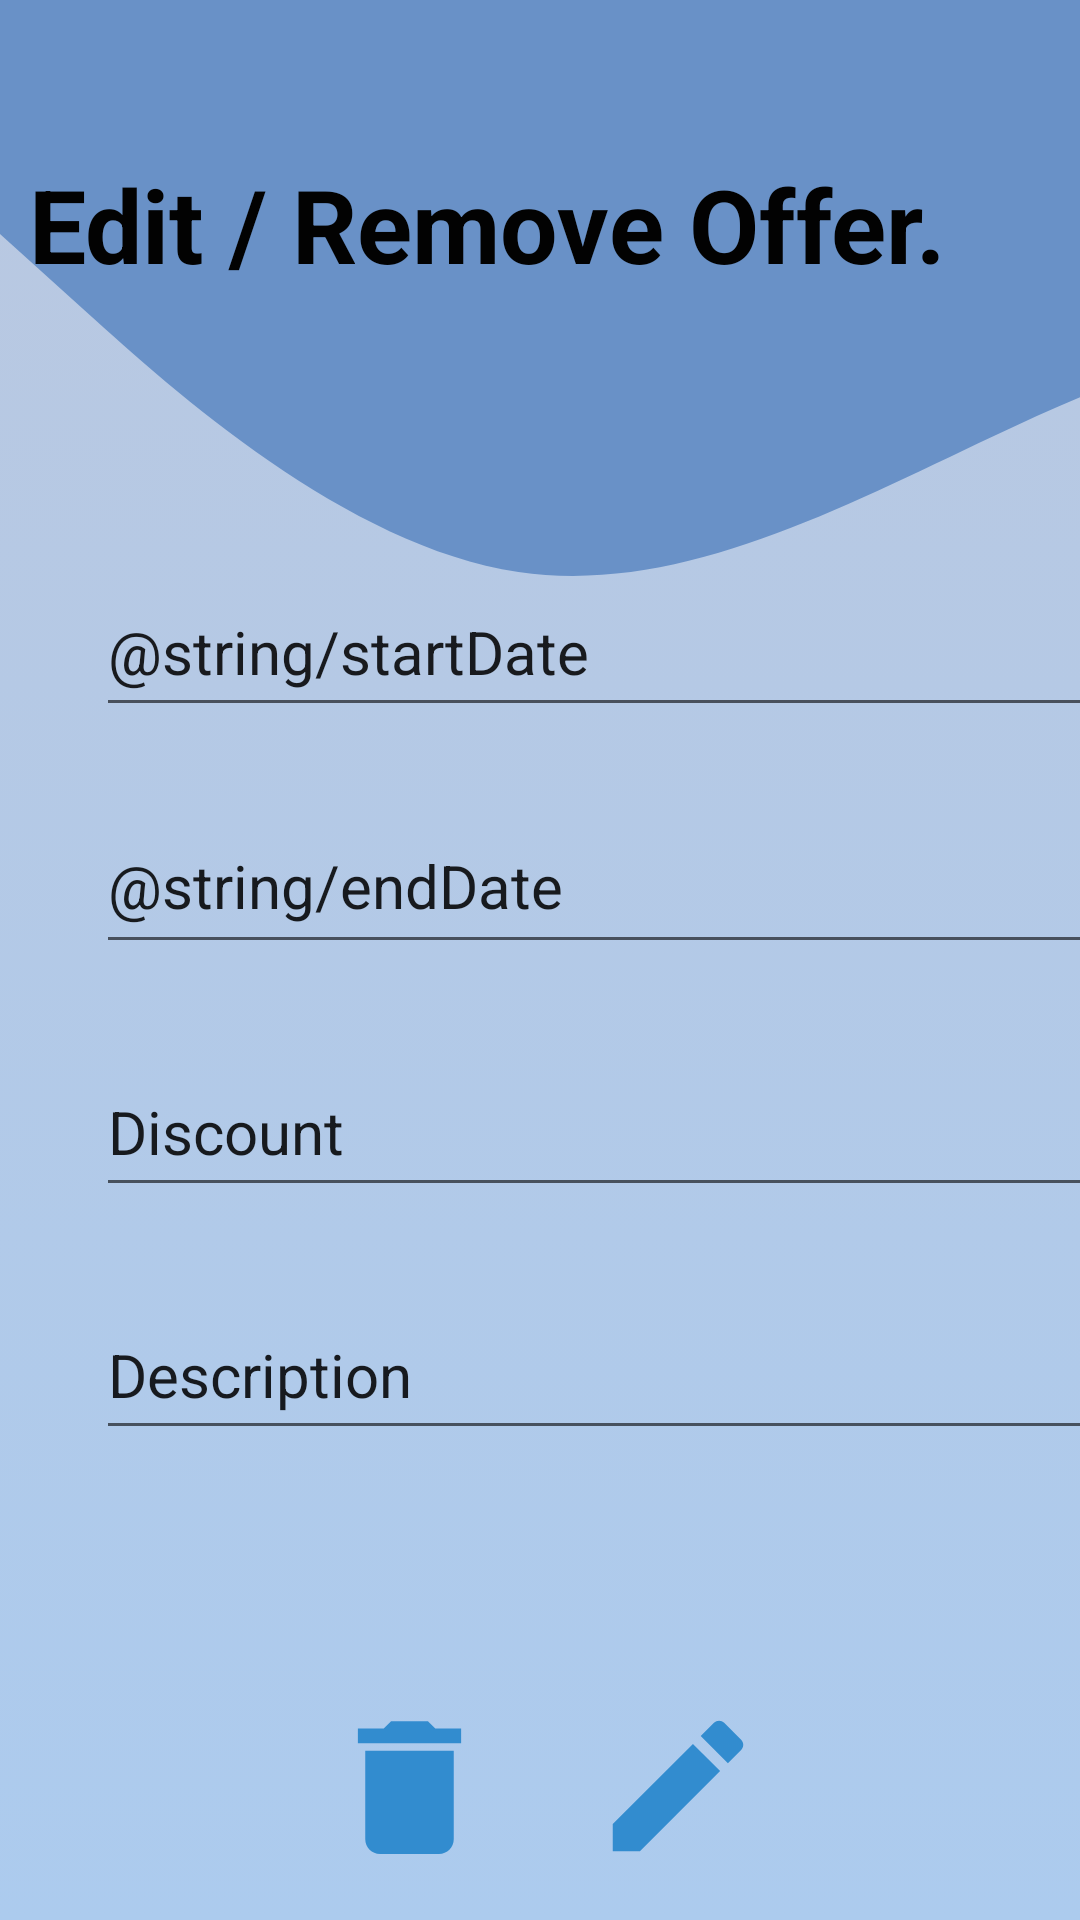

Named icons in this screenshot (1080*1920) and their bounding boxes, (x1, y1, x2, y2):
delete: (358, 1721, 461, 1854)
edit: (612, 1721, 744, 1852)
